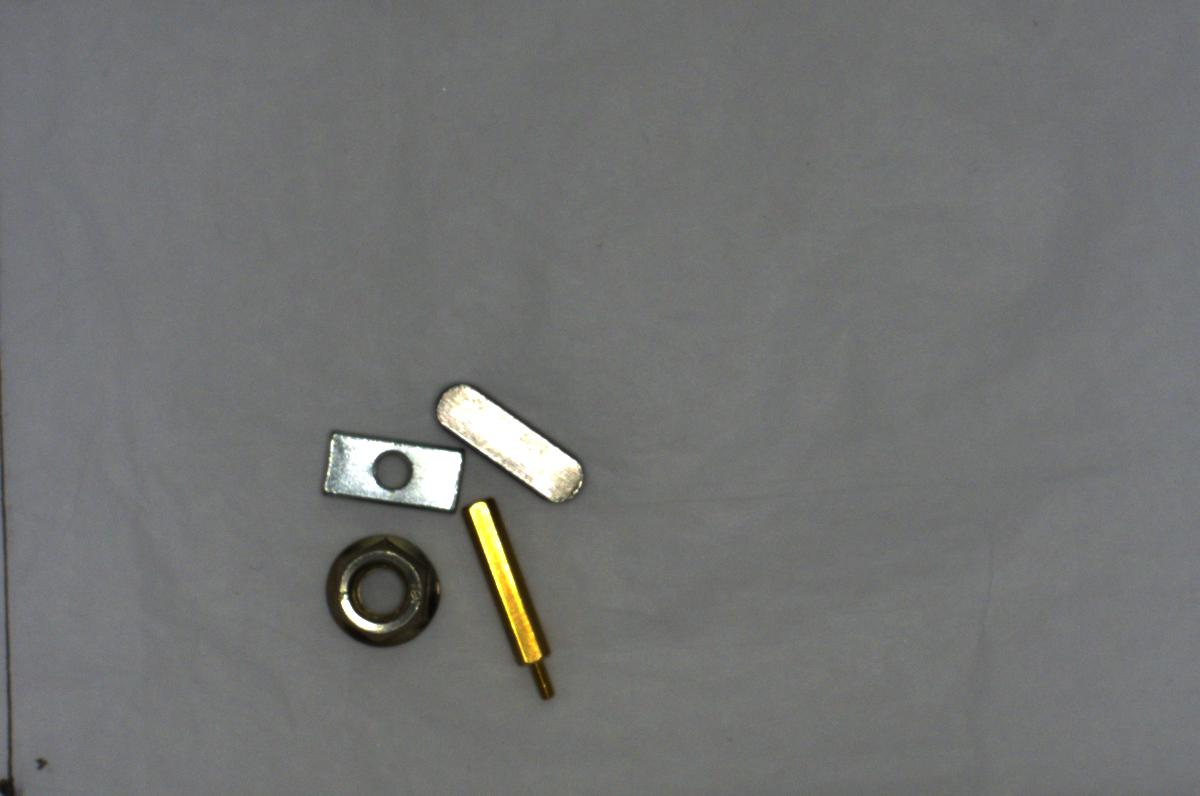Flange nut: (311, 529, 460, 650)
Hexagon pillar: (457, 487, 565, 702)
Keybar: (426, 375, 591, 506)
Rectangular nut: (318, 422, 464, 515)
